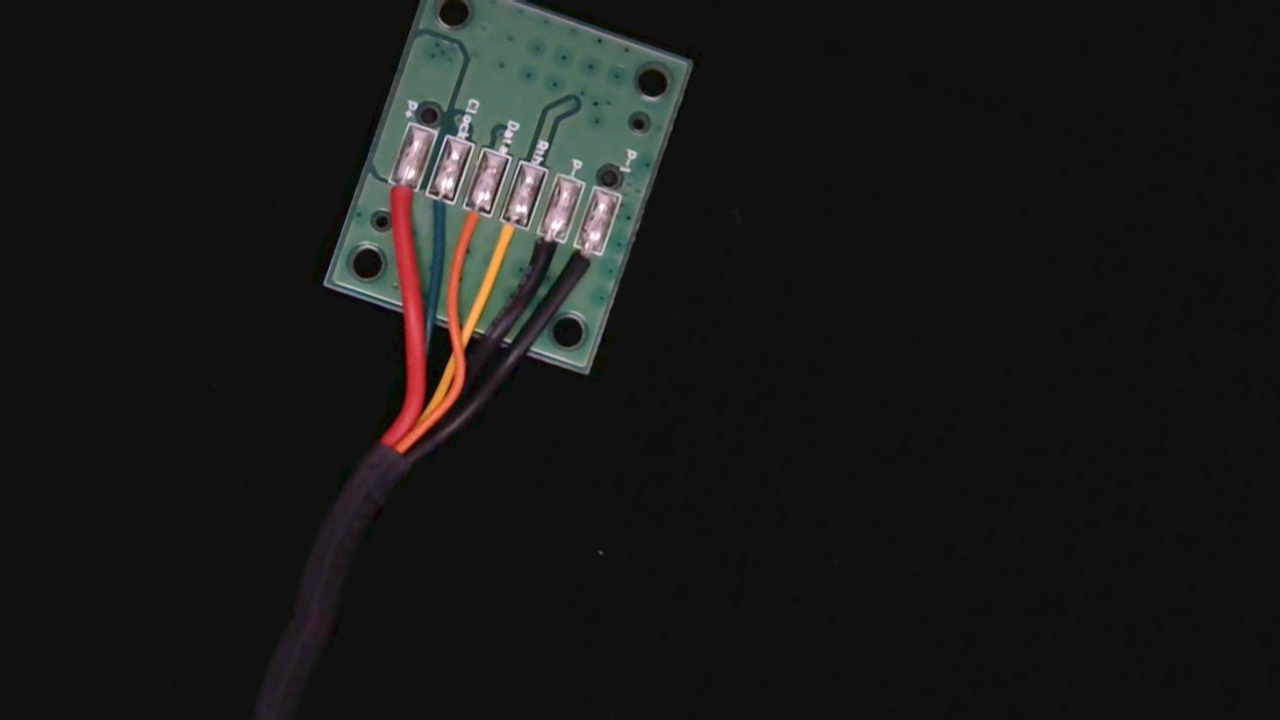Black: (512, 217, 570, 297)
Black1: (554, 230, 608, 305)
Green: (411, 176, 462, 244)
Orange: (442, 189, 496, 267)
Red: (372, 161, 426, 235)
Yellow: (477, 203, 535, 284)
